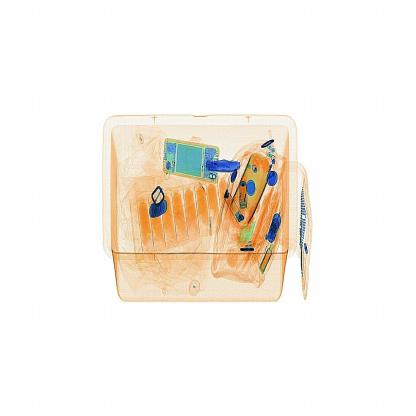knife: (202, 160, 242, 178)
